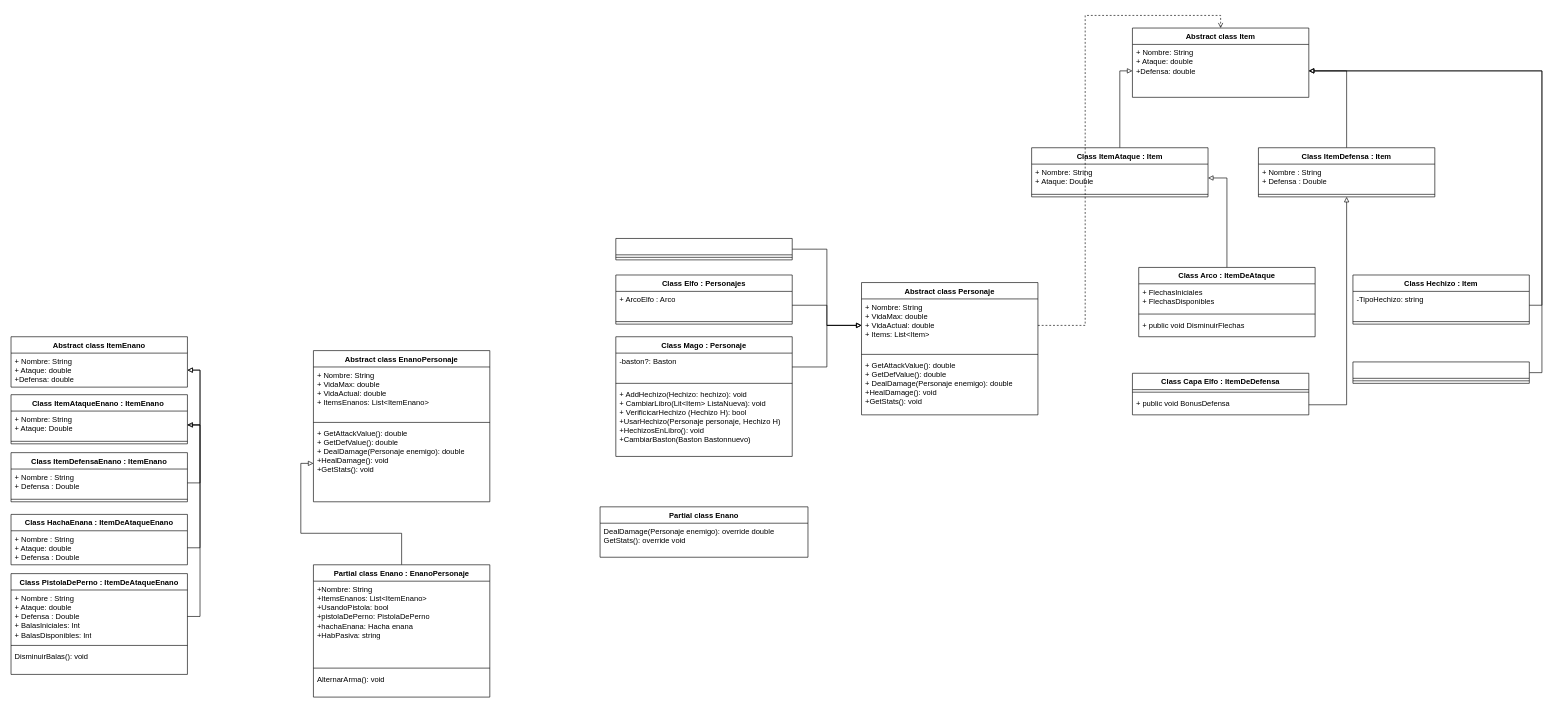
The diagram is 1558 pixels wide and 710 high, and some of its shapes have lost their labels. Each missing label, with the centre of its shape:
"Class Baston : Item" goes at point (1440, 372).
"Class Caballero : Personaje" goes at point (703, 249).
